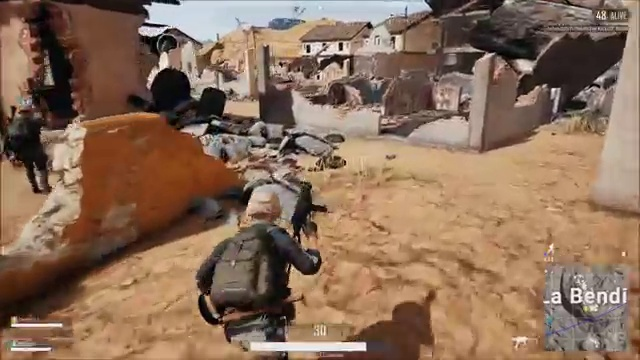Player: (180, 174, 331, 319), (8, 100, 50, 192)
